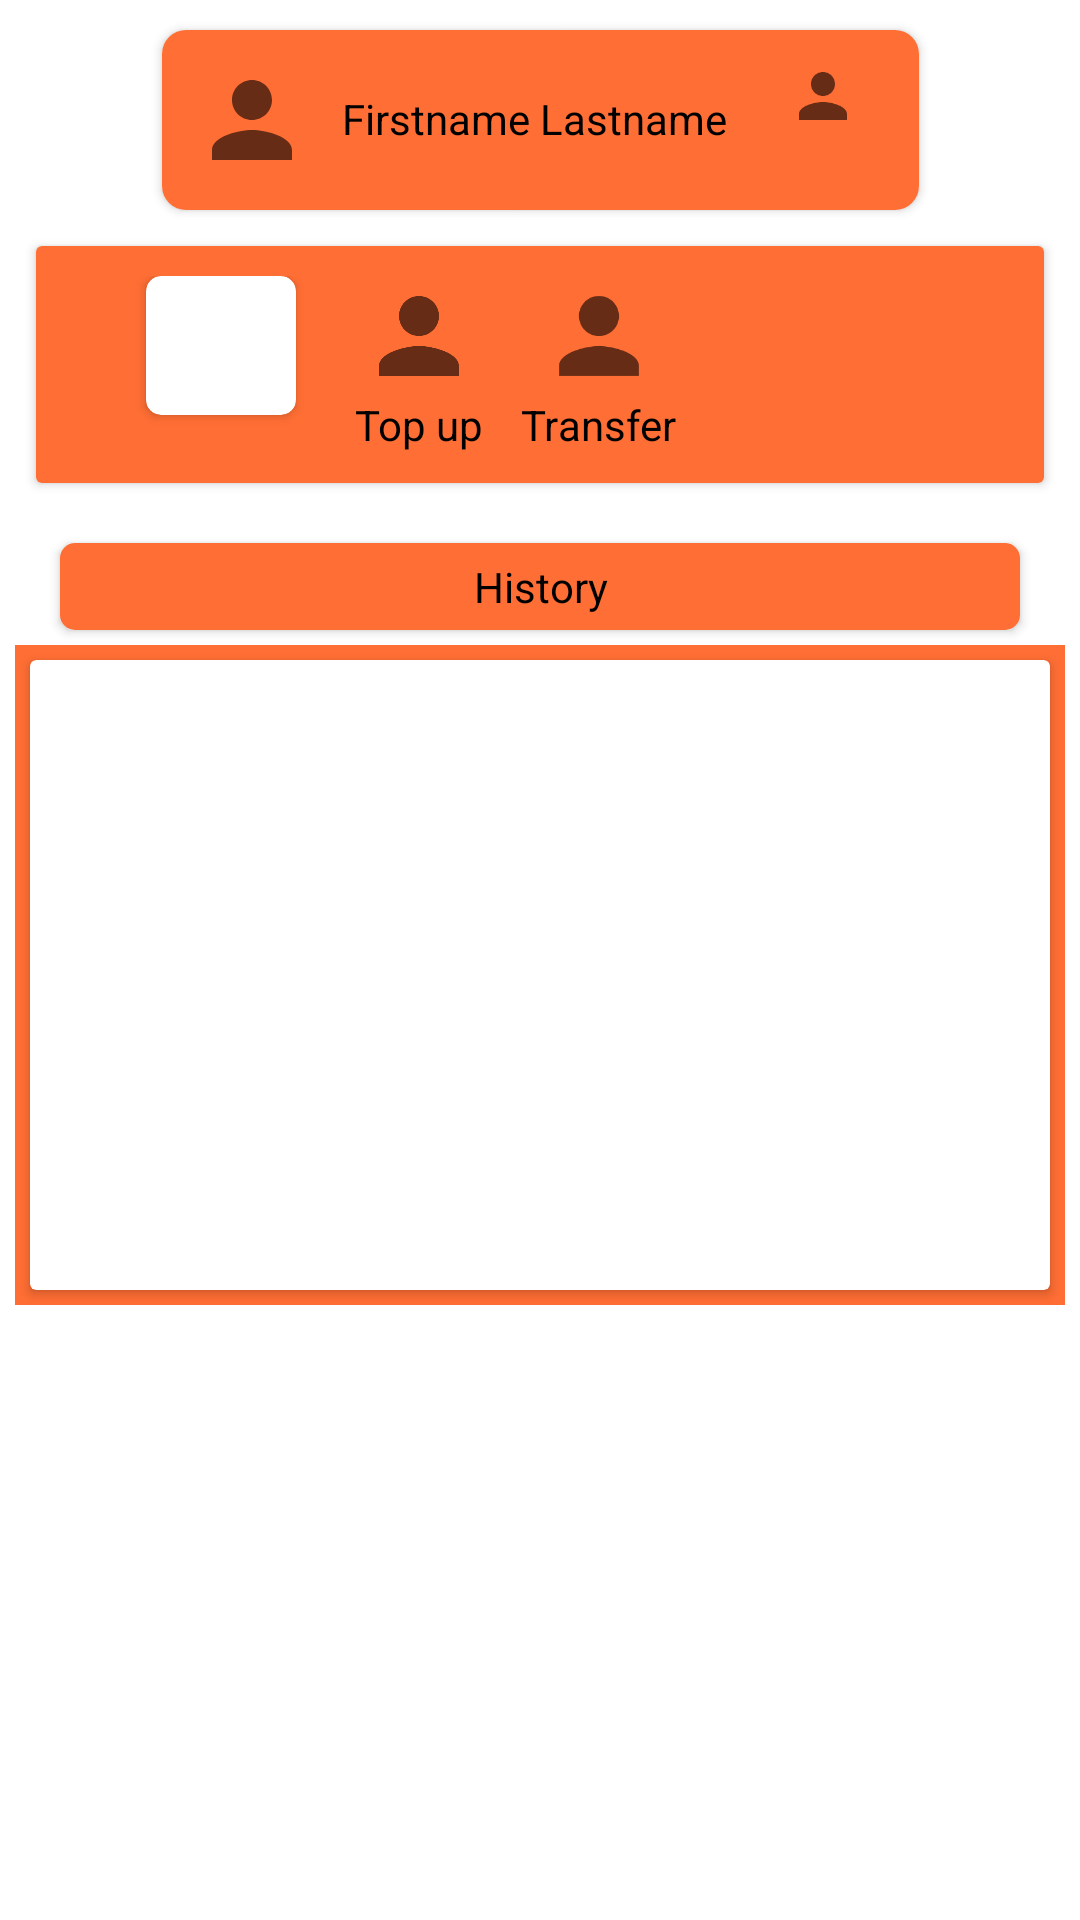

Named icons in this screenshot (1080x1920) and their bounding boxes, {"x1": x1, "y1": y1, "x2": x2, "y2": y2}:
person: {"x1": 799, "y1": 72, "x2": 847, "y2": 120}, {"x1": 212, "y1": 80, "x2": 292, "y2": 160}, {"x1": 379, "y1": 296, "x2": 459, "y2": 376}, {"x1": 559, "y1": 296, "x2": 639, "y2": 376}
